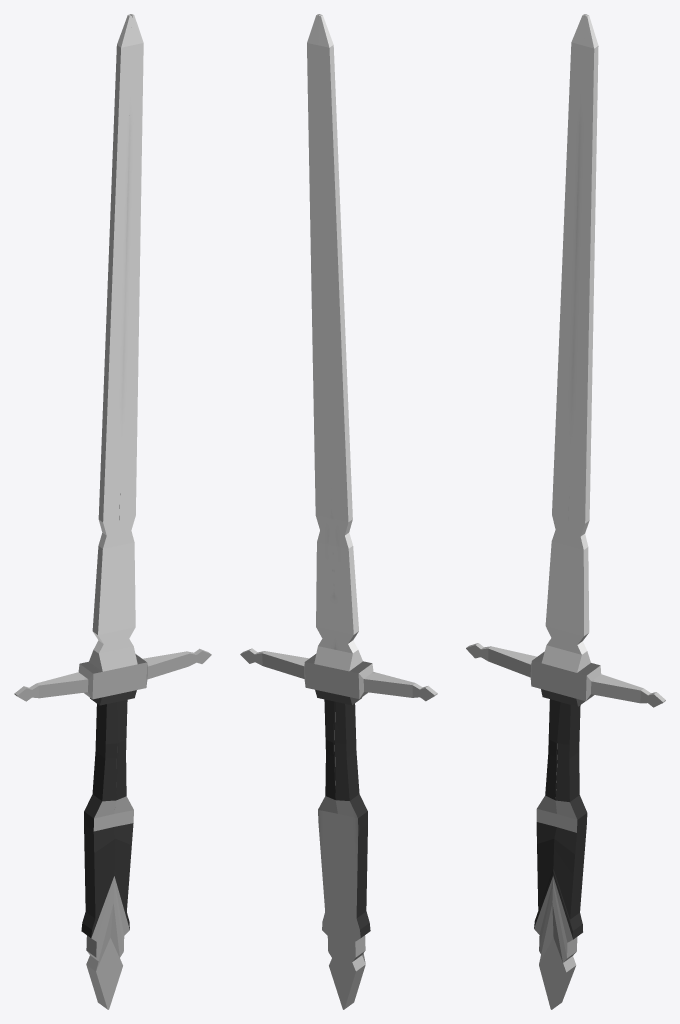
File: BroadSword.fbx
3 views of the same model, side by side, from view 1: azimuth 30°, elevation 25°; view 2: azimuth 150°, elevation 25°; view 3: azimuth 330°, elevation 25° (orthographic).
Visible parts, largest first — view 1: Mesh; view 2: Mesh; view 3: Mesh.
Part boxes in pixels (x1,y1,x2,y2): Mesh: (14, 14, 211, 1009); Mesh: (240, 14, 437, 1009); Mesh: (466, 14, 665, 1009).
Bounding box in the file's own units: 282 × 1367 × 35.03.
